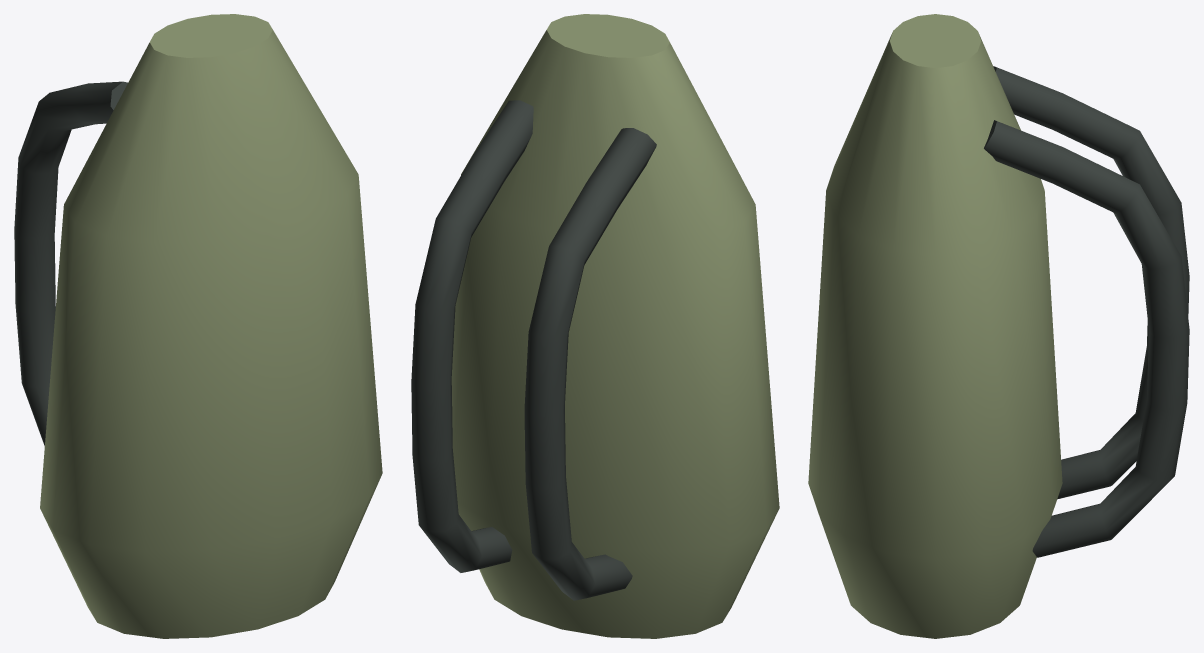
File: backpacks-and-expedition-storage-drawstring-rucksack-5f9158fa__21070.glb
The picture shows the model from 3 angles, left to right: view 1: azimuth 30°, elevation 25°; view 2: azimuth 150°, elevation 25°; view 3: azimuth 270°, elevation 25°; orthographic projection. The views are drawn at different scales.
Visible parts, largest first — view 1: drawstring-rucksack; view 2: drawstring-rucksack; view 3: drawstring-rucksack.
Boxes of the visible parts, x1,y1,x2,y2 form: drawstring-rucksack: (14,14,382,638); drawstring-rucksack: (411,14,779,638); drawstring-rucksack: (808,14,1189,638).
Bounding box in the file's own units: 0.28 × 0.48 × 0.3.
